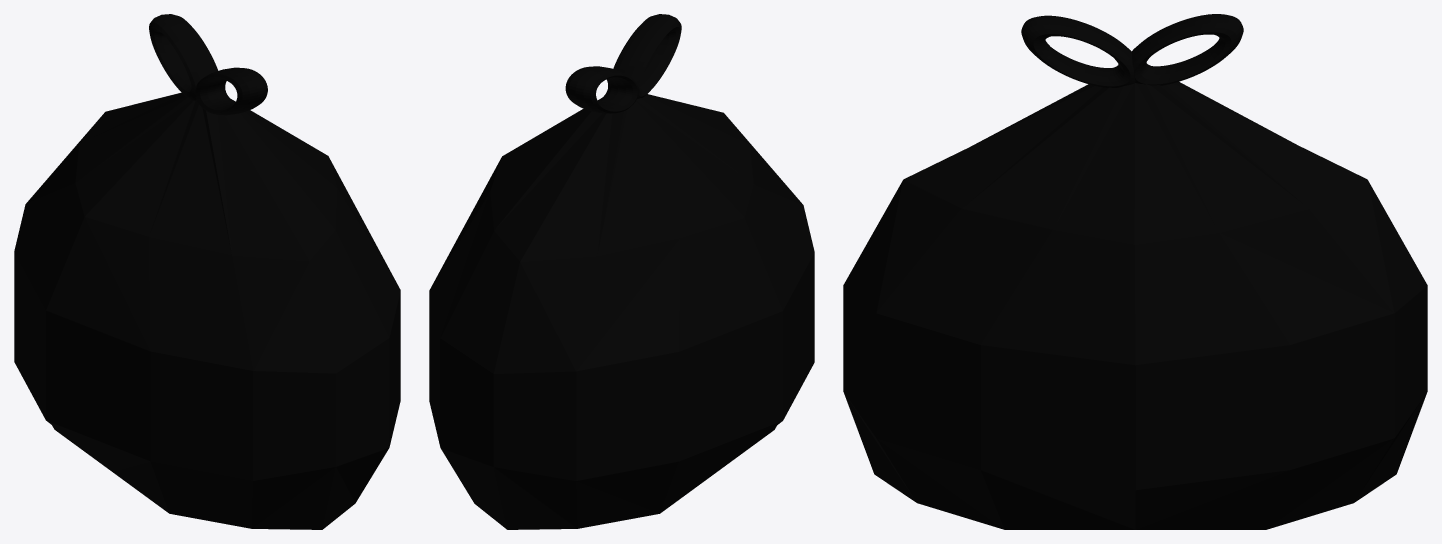
The model's file is trash.obj.
3 renders of one model, left to right at view 1: azimuth 30°, elevation 25°; view 2: azimuth 150°, elevation 25°; view 3: azimuth 270°, elevation 25°, orthographic. The views are drawn at different scales.
Visible parts, largest first — view 1: 立方体, トーラス.001, トーラス; view 2: 立方体, トーラス, トーラス.001; view 3: 立方体, トーラス, トーラス.001.
Boxes of the visible parts, x1=… form: 立方体: x1=14, y1=92, x2=400, y2=529; トーラス.001: x1=149, y1=14, x2=218, y2=100; トーラス: x1=195, y1=67, x2=267, y2=115; 立方体: x1=429, y1=94, x2=814, y2=529; トーラス: x1=613, y1=14, x2=681, y2=98; トーラス.001: x1=565, y1=66, x2=638, y2=113; 立方体: x1=843, y1=82, x2=1427, y2=529; トーラス: x1=1021, y1=15, x2=1135, y2=87; トーラス.001: x1=1132, y1=14, x2=1243, y2=85.
Bounding box in the file's own units: 1.7 × 2.12 × 2.35.
Materials: 3 (3 with a texture image).
